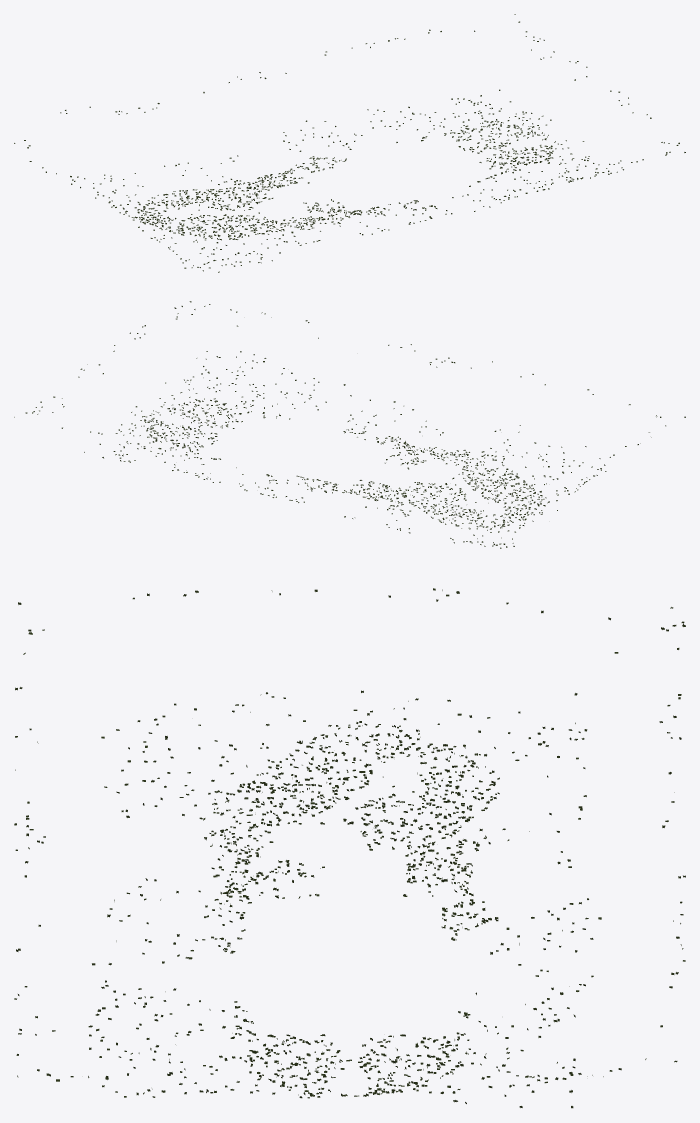
Rendered from SM_Art_Cover_L_EthansMarks_GrassBlades.gltf.
3 views of the same model, one above another, from view 1: azimuth 30°, elevation 25°; view 2: azimuth 150°, elevation 25°; view 3: azimuth 270°, elevation 25° (orthographic). The views are drawn at different scales.
Visible parts, largest first — view 1: SM_Art_Cover_L_EthansMarks_GrassBlades; view 2: SM_Art_Cover_L_EthansMarks_GrassBlades; view 3: SM_Art_Cover_L_EthansMarks_GrassBlades.
Part boxes in pixels (x1,y1,x2,y2): SM_Art_Cover_L_EthansMarks_GrassBlades: (14,14,685,272); SM_Art_Cover_L_EthansMarks_GrassBlades: (14,301,685,548); SM_Art_Cover_L_EthansMarks_GrassBlades: (14,588,685,1108).
Bounding box in the file's own units: 279 × 32.12 × 169.
Materials: 1 (1 with a texture image).
